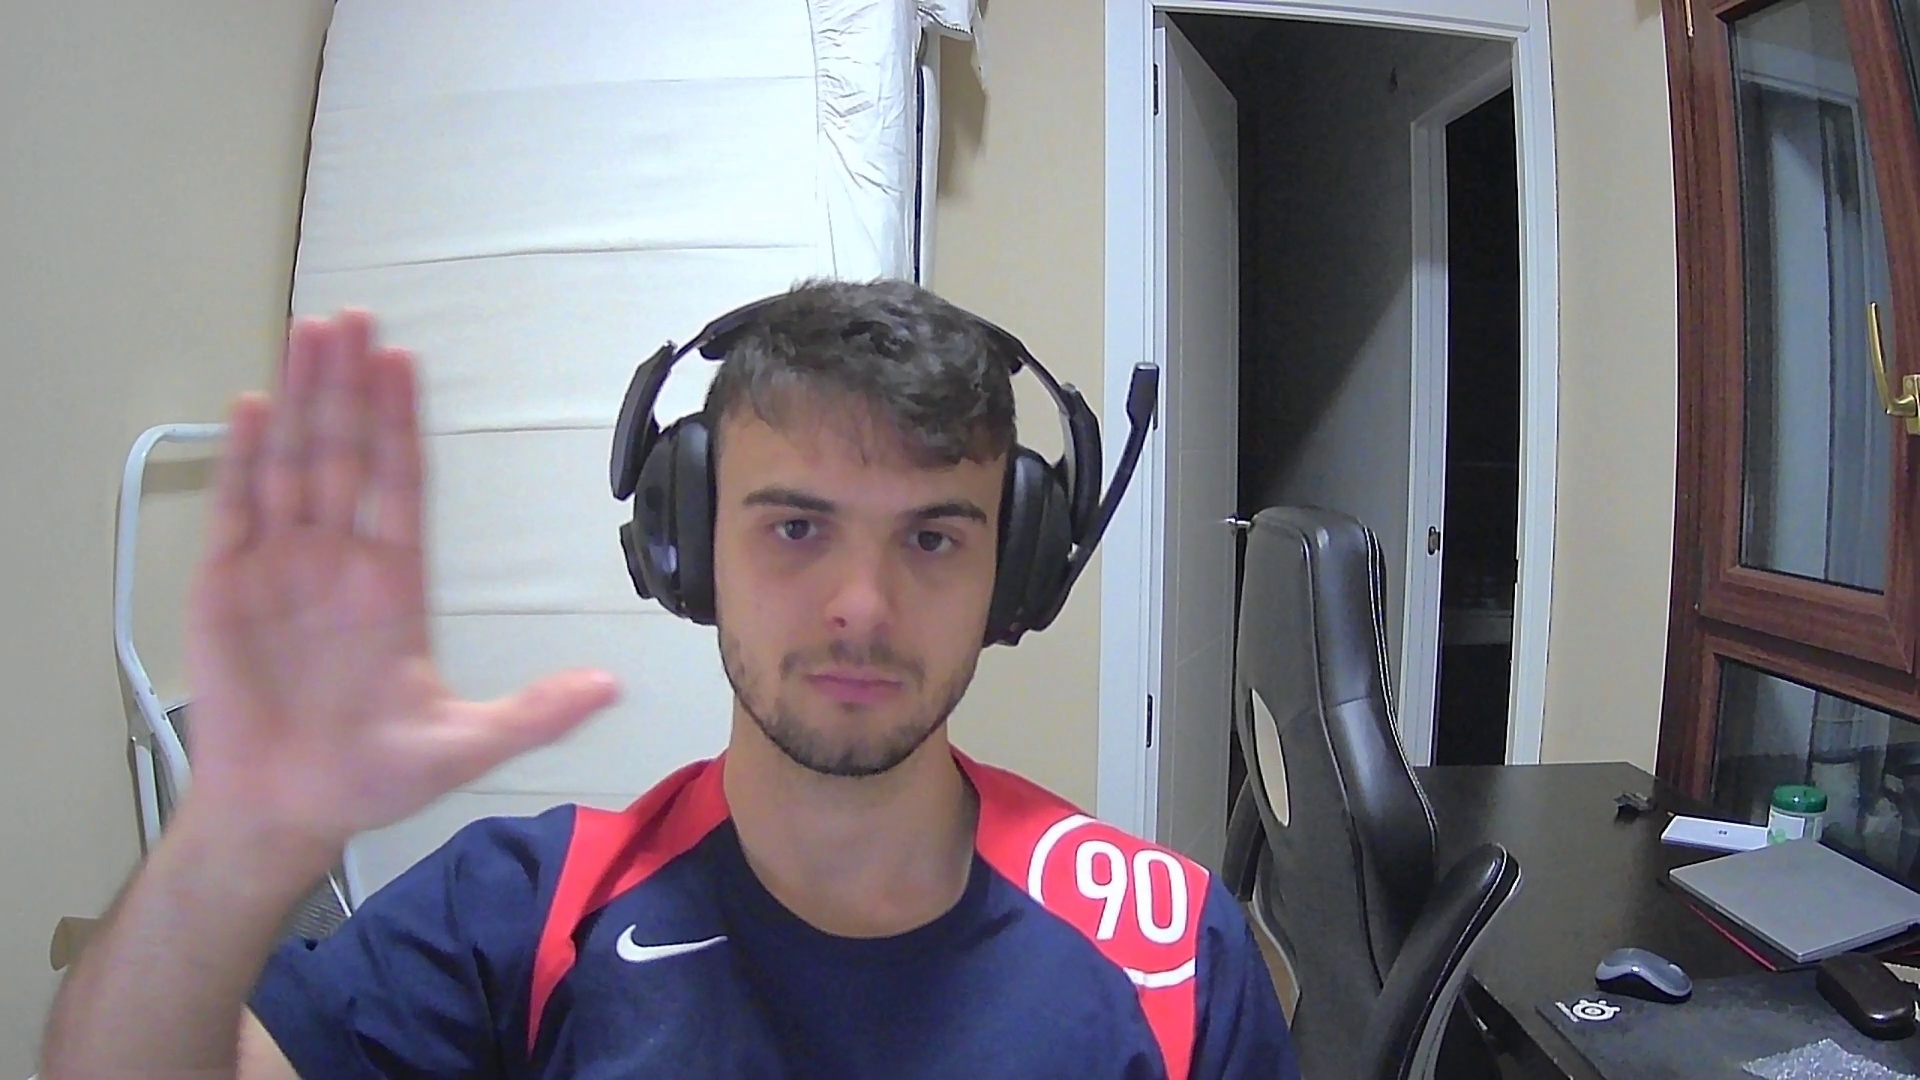Palm: (181, 301, 618, 808)
